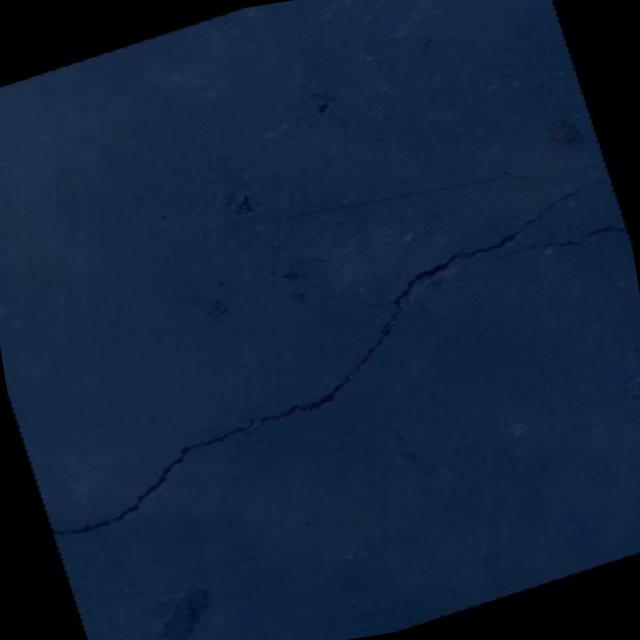crack: (0, 174, 640, 607), (490, 214, 631, 276)
